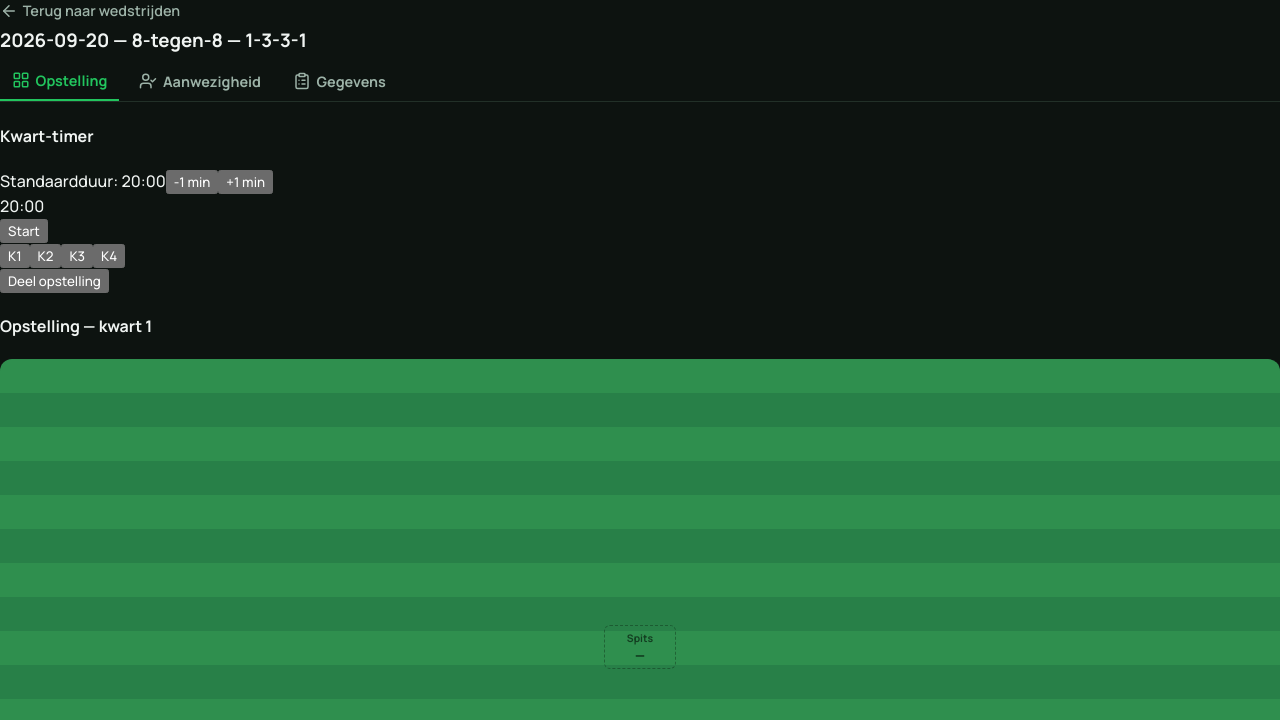
Test: MatchDetailScreen — Gegevens sub-tab (jt-dvh.14.10) › switches to the Gegevens sub-tab and shows the wedstrijdgegevens form
Expected: the tab "K1" is shown, x1=0 y1=244 x2=30 y2=268
Click the link "Gegevens".
click(340, 81)  # box x1=293 y1=72 x2=386 y2=91
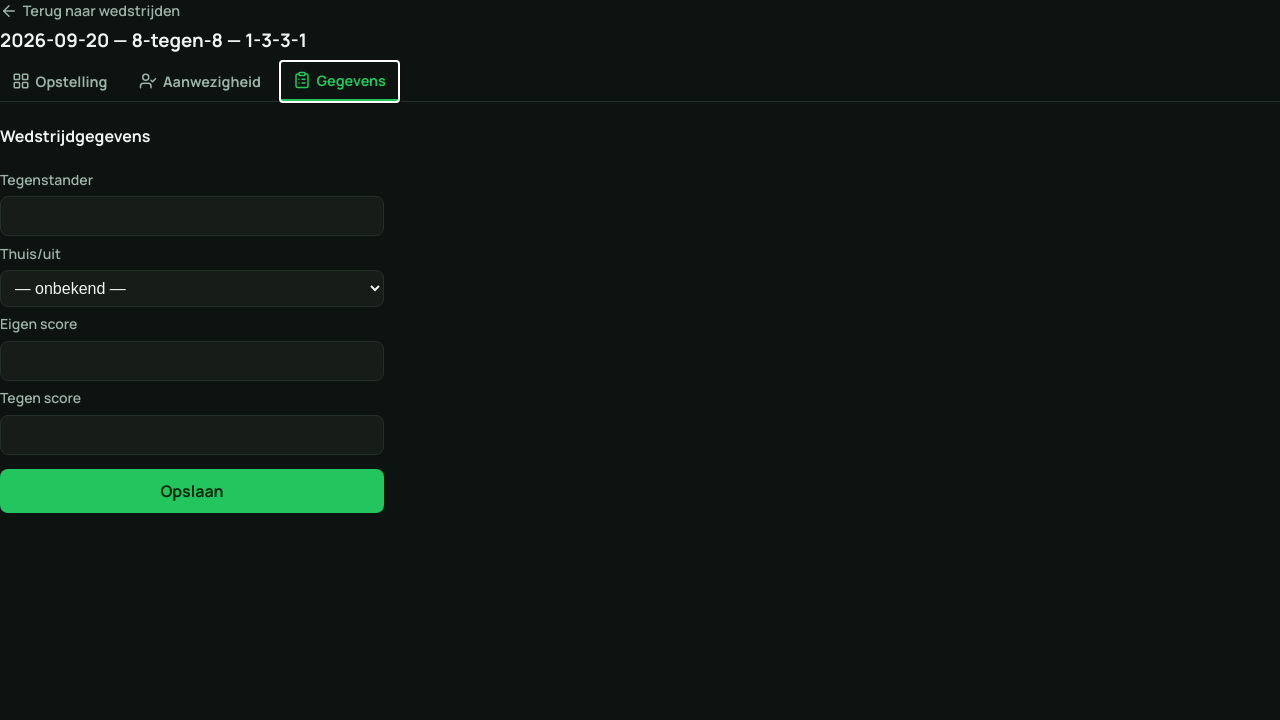
Expected: the field labelled "Tegenstander" is shown, x1=0 y1=196 x2=384 y2=236
Expected: the tab "K1" is gone
